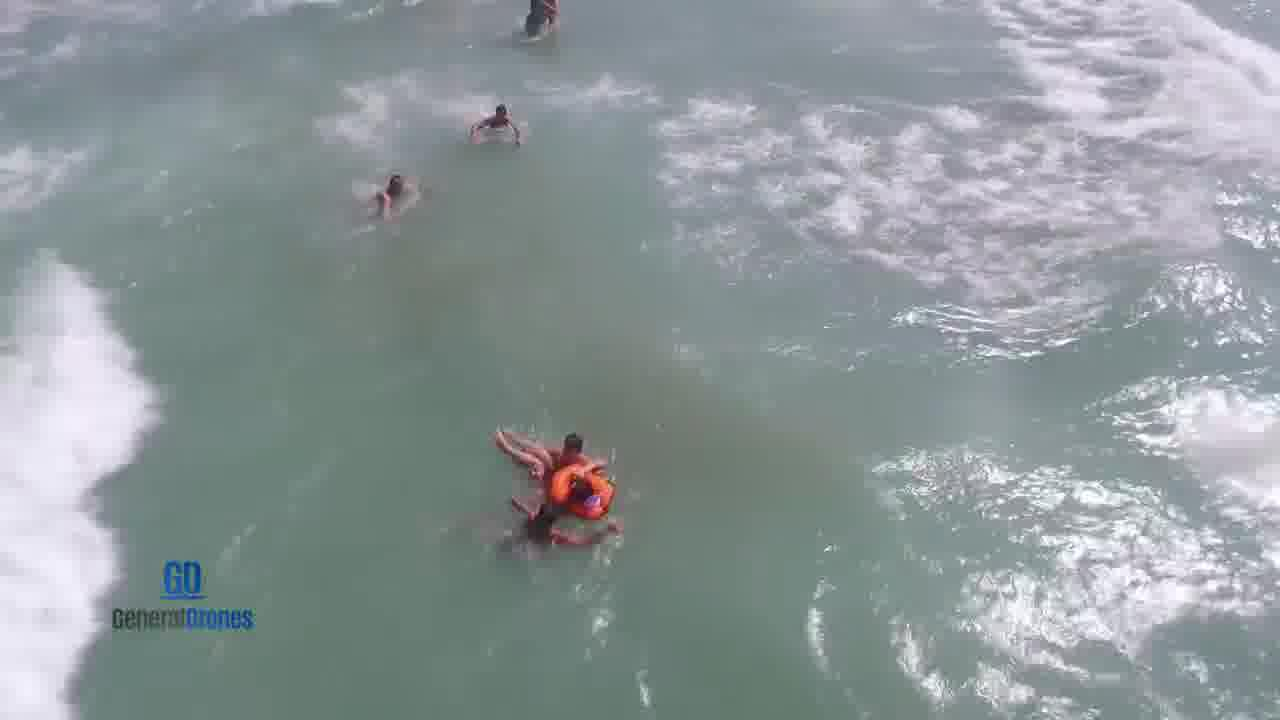human: (487, 428, 618, 510), (501, 497, 626, 554), (464, 100, 535, 150), (364, 171, 426, 216), (552, 423, 612, 465)
